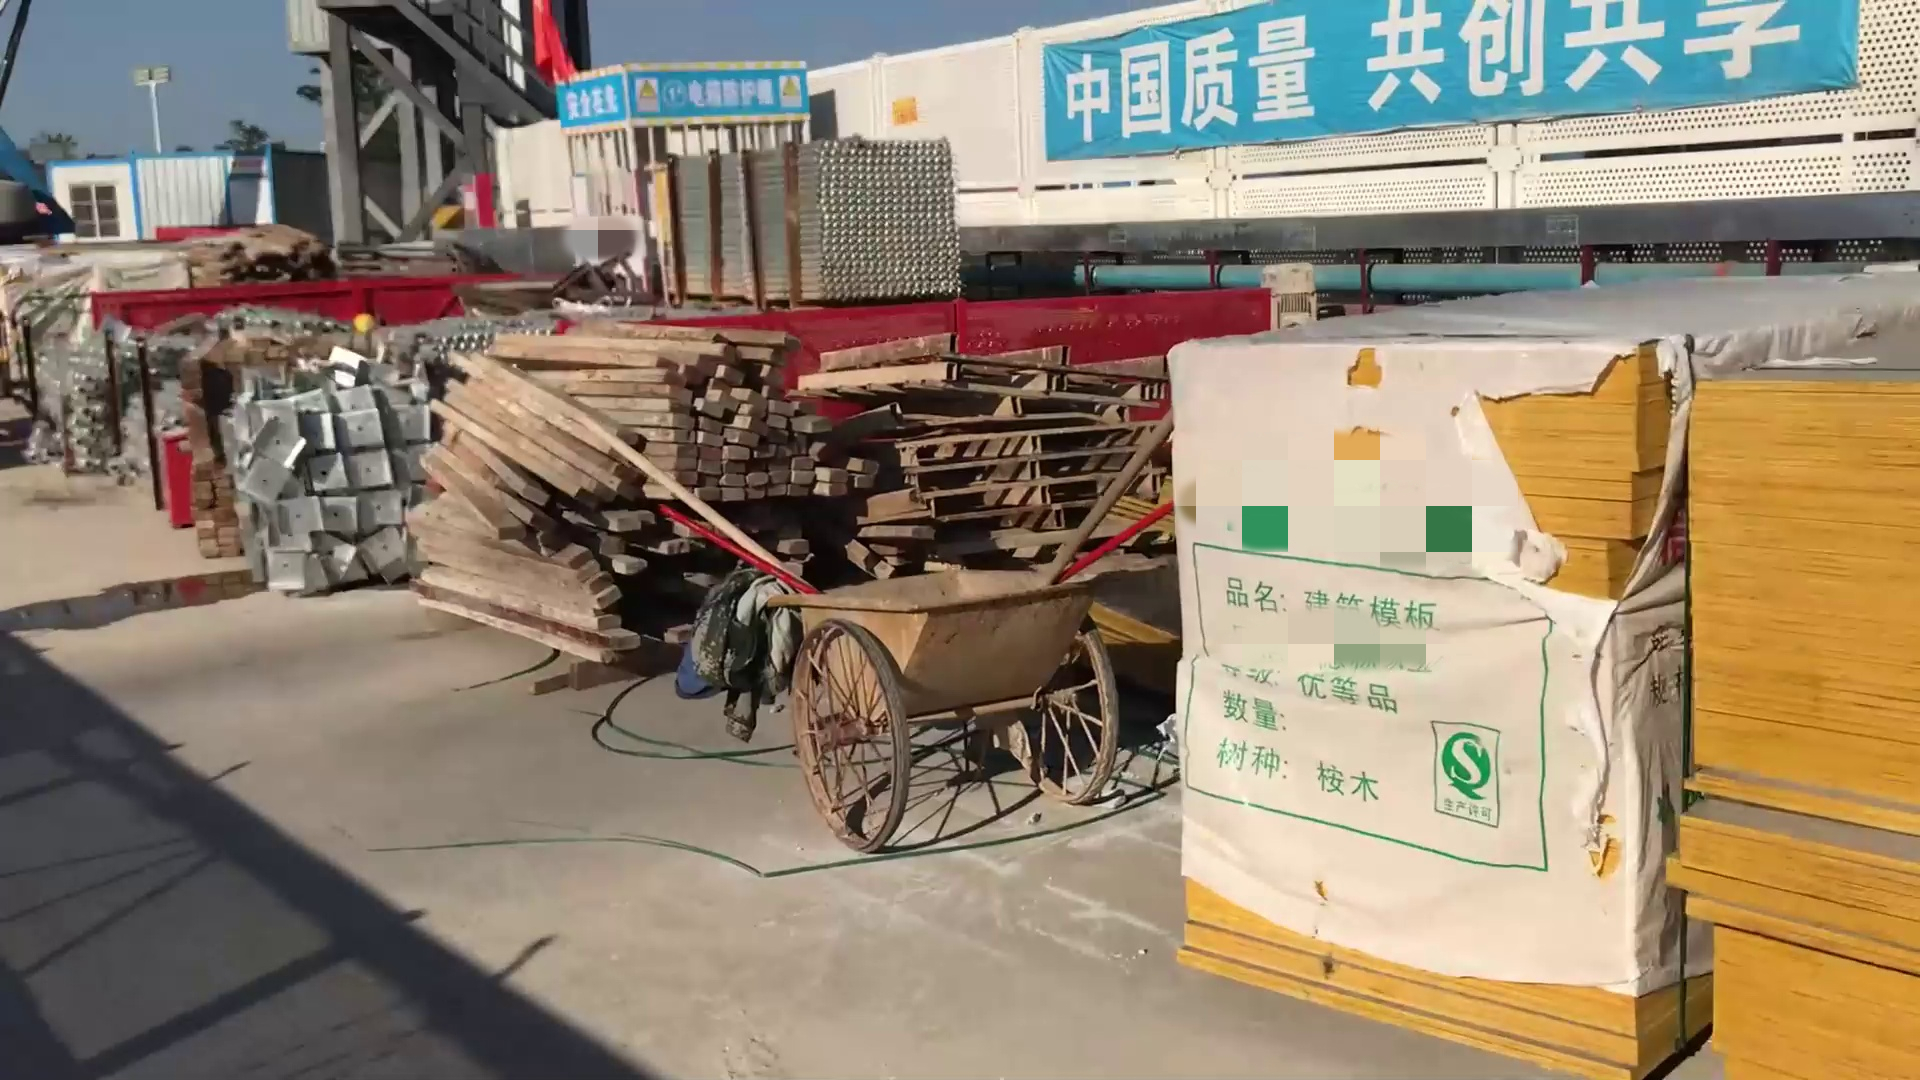board: (1163, 347, 1688, 1080), (1695, 361, 1920, 1080)
handcart: (794, 558, 1121, 860)
scaffold: (669, 120, 971, 301), (33, 327, 154, 477)
slogan: (1042, 1, 1865, 153)
wood: (427, 335, 861, 646), (183, 351, 256, 556), (186, 224, 331, 276)
